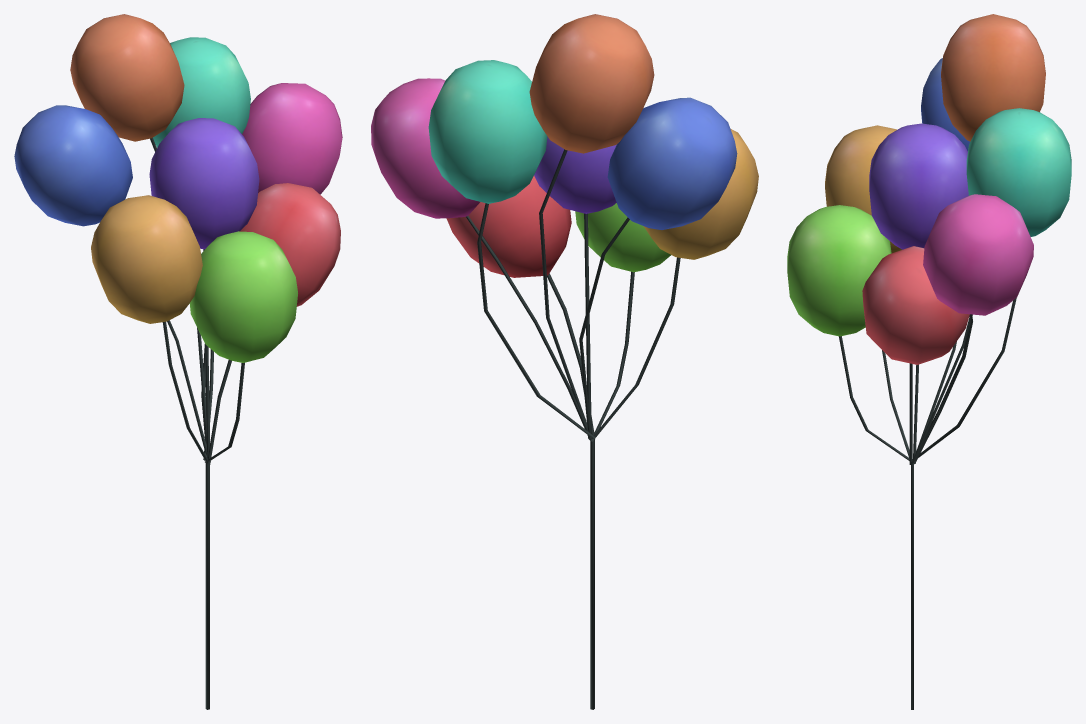
File: SiWangPenQuan_01_qiqiu_01_UV2.FBX
The picture shows the model from 3 angles, left to right: view 1: azimuth 30°, elevation 25°; view 2: azimuth 150°, elevation 25°; view 3: azimuth 270°, elevation 25°; orthographic projection. The views are drawn at different scales.
Visible parts, largest first — view 1: SiWangPenQuan_01_qiqiu_01_UV2; view 2: SiWangPenQuan_01_qiqiu_01_UV2; view 3: SiWangPenQuan_01_qiqiu_01_UV2.
Boxes of the visible parts, box(x1,y1,x2,y2) form: SiWangPenQuan_01_qiqiu_01_UV2: box(14, 14, 342, 709); SiWangPenQuan_01_qiqiu_01_UV2: box(371, 14, 758, 709); SiWangPenQuan_01_qiqiu_01_UV2: box(787, 14, 1071, 709).
Bounding box in the file's own units: 439 × 887 × 342.
